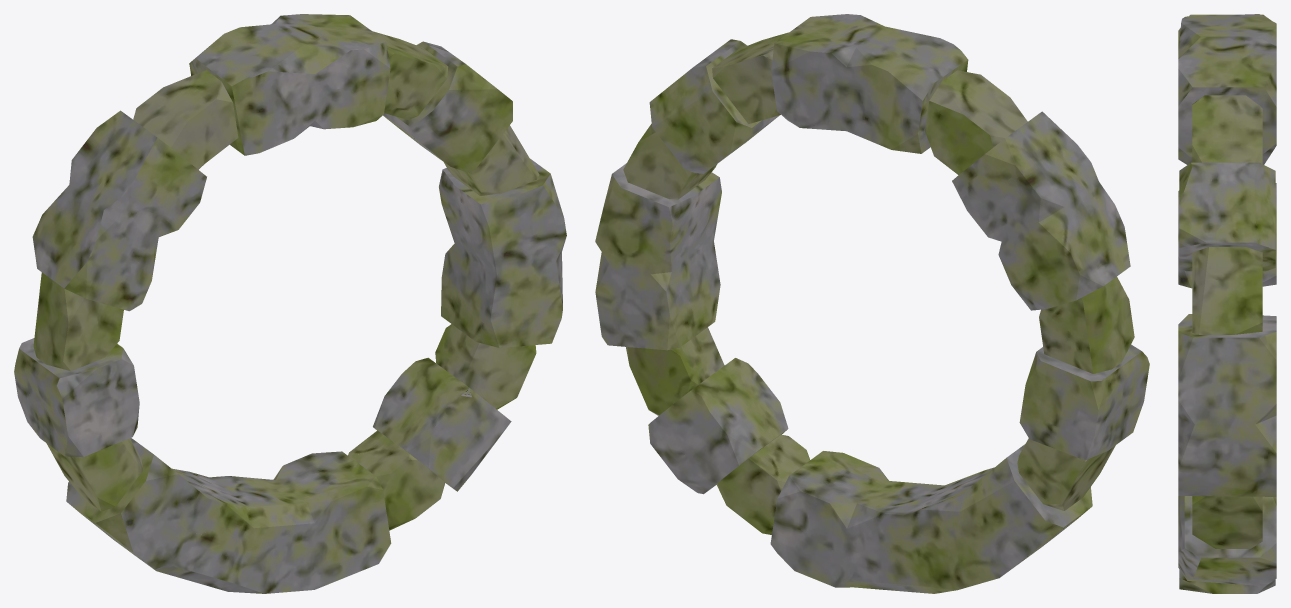
Rendered from salmon-portal1-v1.glb.
3 renders of one model, left to right at view 1: azimuth 30°, elevation 25°; view 2: azimuth 150°, elevation 25°; view 3: azimuth 270°, elevation 25°, orthographic.
Visible parts, largest first — view 1: BrickLarge_low_MagicStone_0, BrickSmall_low_MagicStoneMoss_0; view 2: BrickLarge_low_MagicStone_0, BrickSmall_low_MagicStoneMoss_0; view 3: BrickLarge_low_MagicStone_0, BrickSmall_low_MagicStoneMoss_0.
Part boxes in pixels (x1,y1,x2,y2): BrickLarge_low_MagicStone_0: (14, 14, 566, 593); BrickSmall_low_MagicStoneMoss_0: (33, 31, 539, 530); BrickLarge_low_MagicStone_0: (595, 14, 1149, 593); BrickSmall_low_MagicStoneMoss_0: (623, 32, 1134, 534); BrickLarge_low_MagicStone_0: (1178, 14, 1276, 593); BrickSmall_low_MagicStoneMoss_0: (1192, 95, 1262, 548).
Size of the model in its own units: 2.66 by 2.68 by 0.4499.
Materials: 2 (2 with a texture image).
